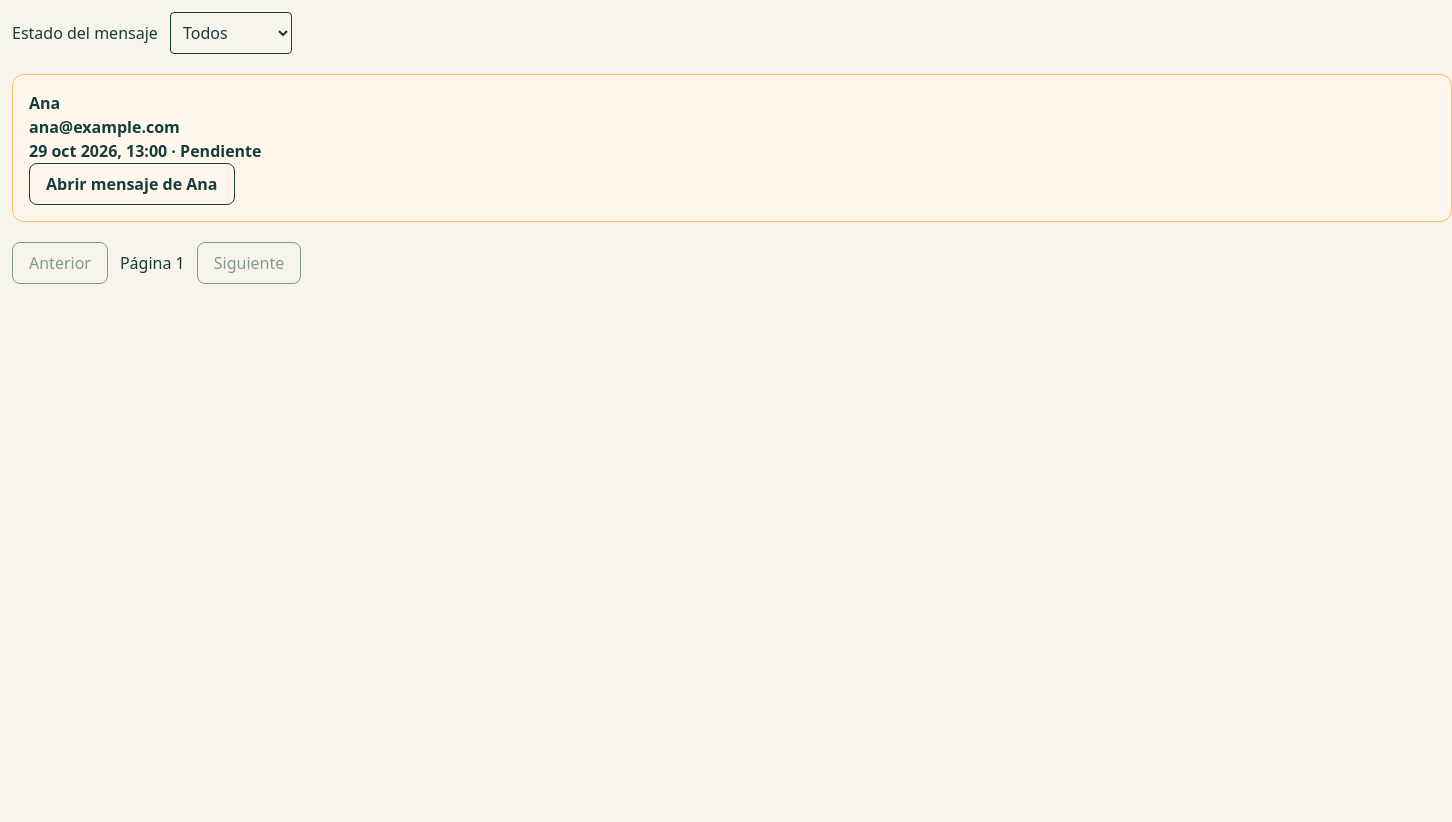
it: keeps the previous status when saving fails and supports empty filtered results
Click the button "Abrir mensaje de Ana" at (132, 184), box [29, 163, 234, 205]
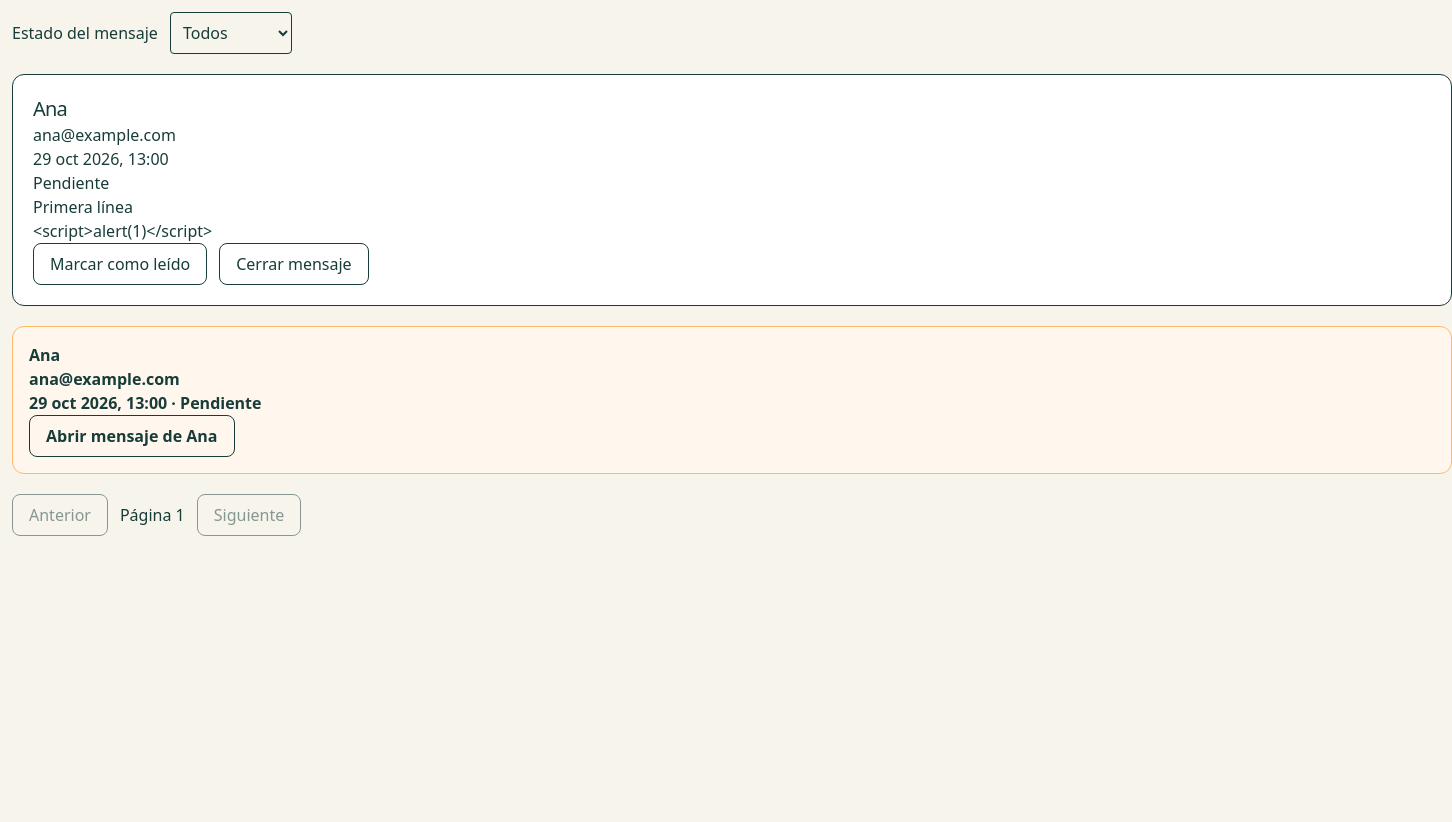
Click the button "Marcar como leído" at (120, 264), box [33, 243, 207, 285]
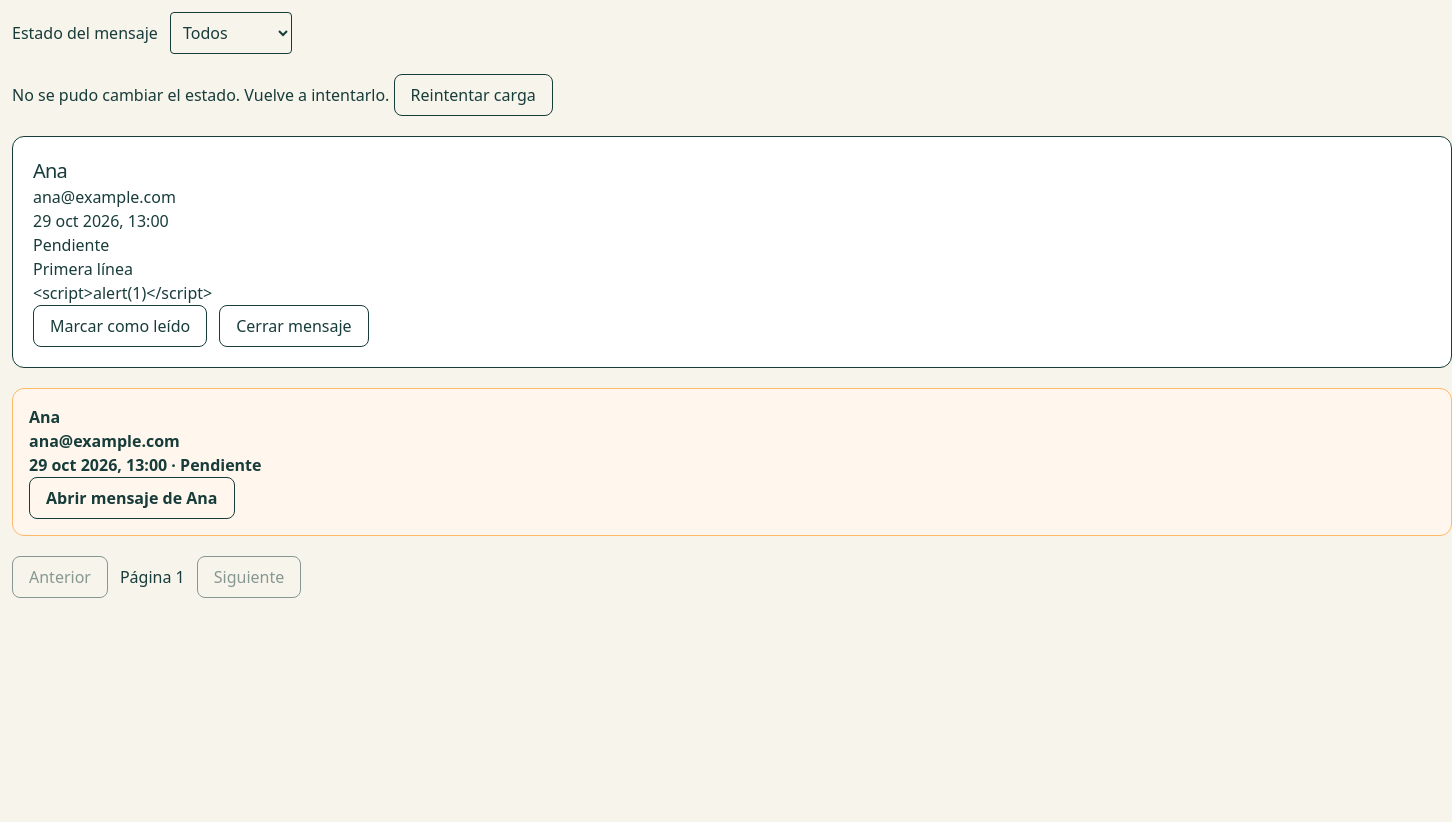
Check: the button "Marcar como leído" is enabled, box [33, 305, 207, 347]
Check: the text "Pendiente" is shown, box [33, 234, 109, 256]
Check: the text "No se pudo cambiar el estado. Vuelve a intentarlo." is shown, box [12, 84, 389, 106]
Select "Leídos" in the dropdown at (231, 33), box [170, 12, 292, 54]
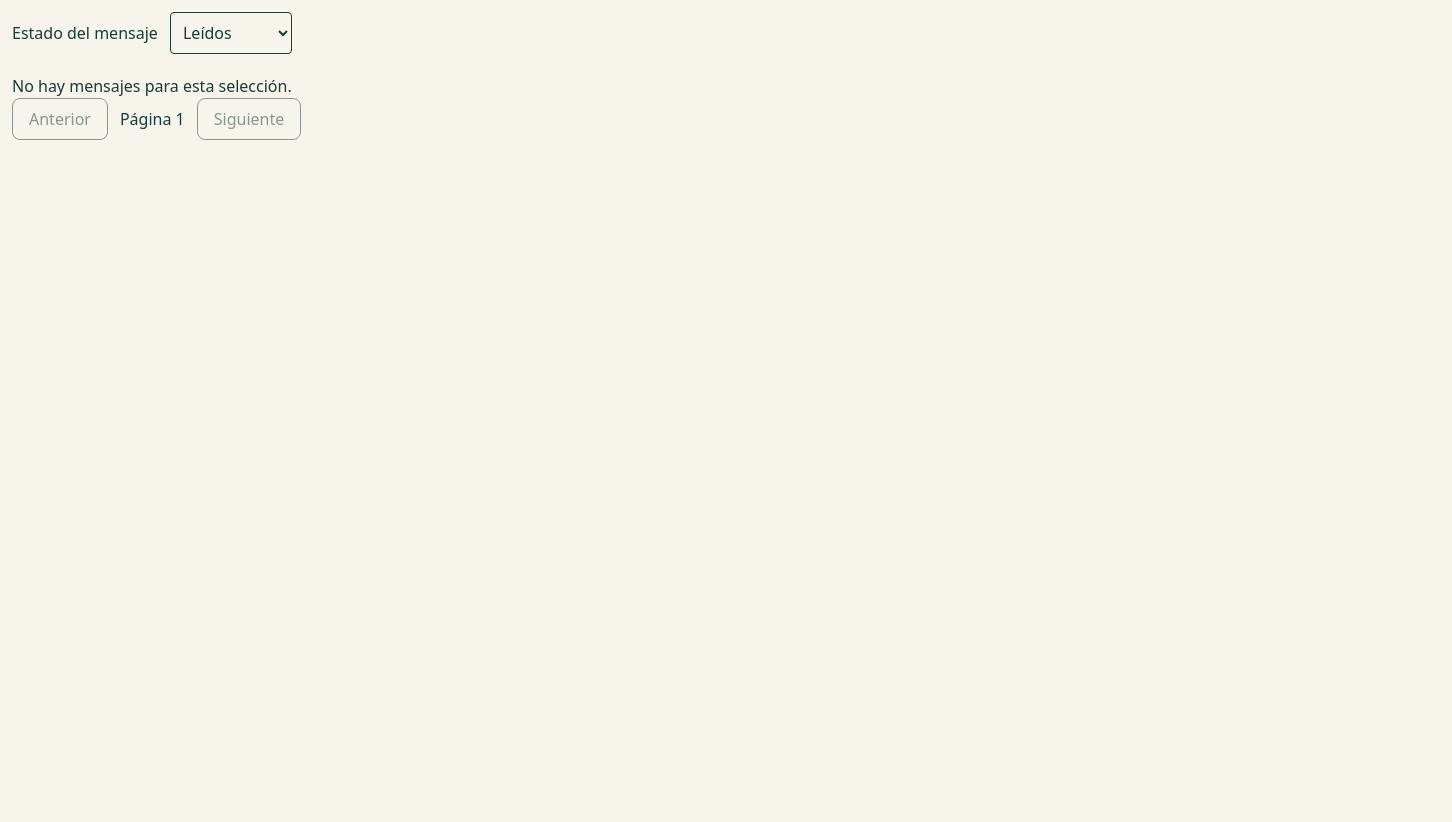
Check: the text "No hay mensajes para esta selección." is shown, box [12, 75, 292, 97]
